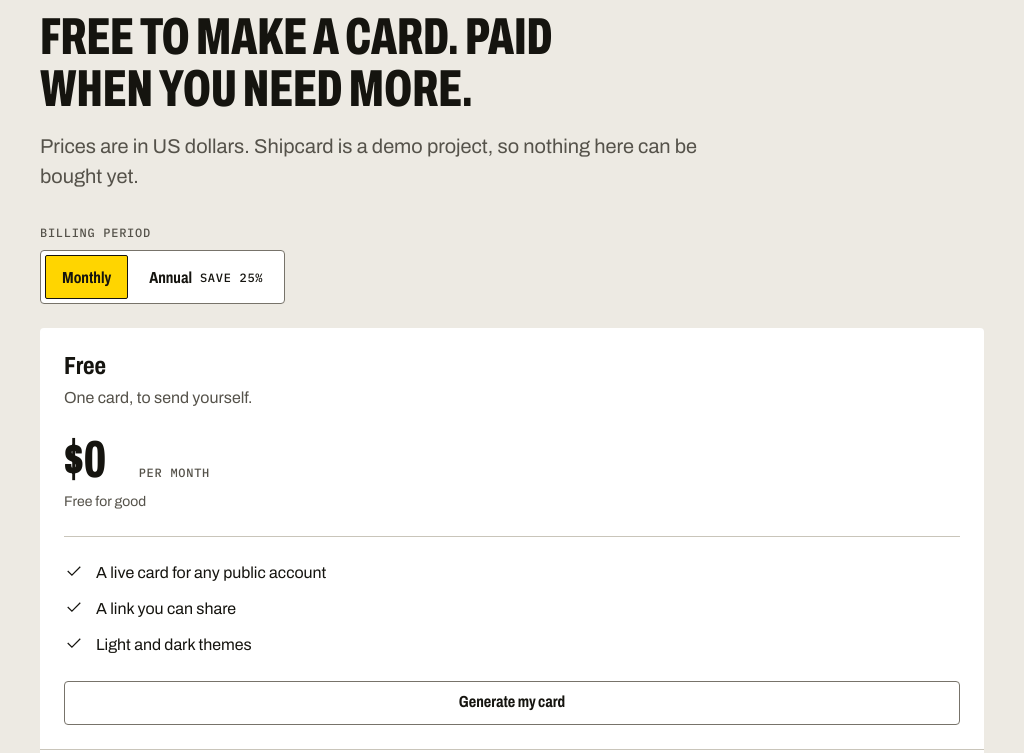
Scenario: choosing annual updates every paid price and says what is billed
The width and height of the screenshot is (1024, 753).
What coordinates should you click on to do the following:
click the radio button labelled "Annual save 25%"
I would click on:
 (206, 277)
Its box is [149,269,263,286].
(page scrolled)
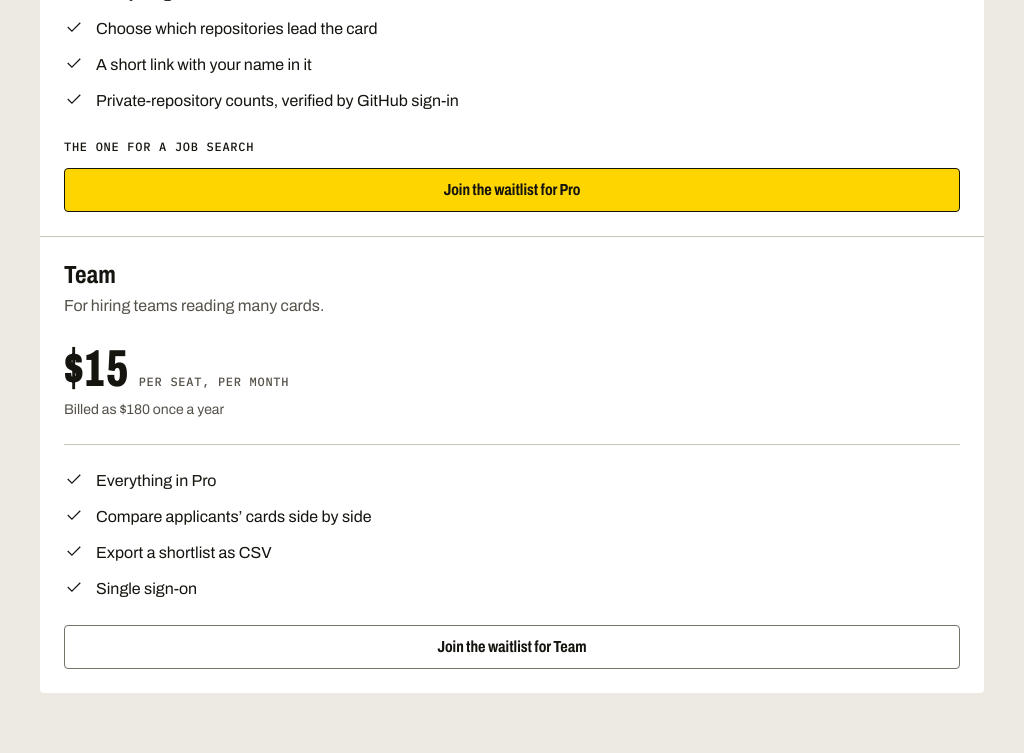
Expected: the text "$15" is shown, [64,343,131,395]
Expected: the text "Billed as $180 once a year" is shown, [64,402,224,417]
